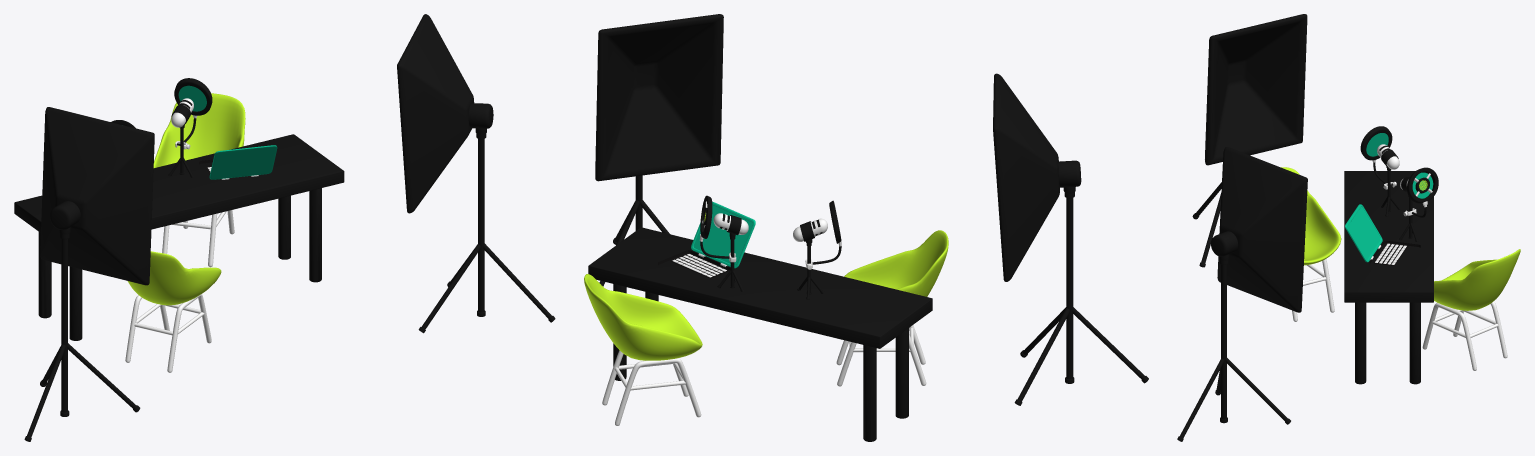
Rendered from studio-setup-3d-animated-icon-517992393383.glb.
3 renders of one model, left to right at view 1: azimuth 30°, elevation 25°; view 2: azimuth 150°, elevation 25°; view 3: azimuth 270°, elevation 25°, orthographic. The views are drawn at different scales.
Parts seen in each view (by area): view 1: Cylinder.107, Cube.029, Cylinder.128, Plane.046, Plane.045, Plane.047, NurbsPath.106, Cylinder.118, Cylinder.108, NurbsPath.117, Cylinder.112, Cylinder.122 (+3 smaller); view 2: Cube.029, Cylinder.128, Cylinder.107, Plane.046, Plane.045, NurbsPath.117, Plane.047, Cylinder.108, NurbsPath.106, Cylinder.116, Plane.050, Cylinder.112; view 3: Cylinder.107, Cylinder.128, Cube.029, Plane.046, Plane.045, NurbsPath.117, Plane.047, Cylinder.118, Cylinder.084, NurbsPath.106, Cylinder.124, Cylinder.101 (+3 smaller).
Part boxes in pixels (bbox=[...]): Cylinder.107: bbox=[40, 107, 154, 285]; Cube.029: bbox=[14, 134, 344, 340]; Cylinder.128: bbox=[397, 14, 493, 213]; Plane.046: bbox=[153, 93, 245, 167]; Plane.045: bbox=[127, 251, 221, 305]; Plane.047: bbox=[209, 145, 277, 179]; NurbsPath.106: bbox=[125, 294, 211, 372]; Cylinder.118: bbox=[475, 128, 486, 316]; Cylinder.108: bbox=[59, 227, 70, 416]; NurbsPath.117: bbox=[162, 210, 234, 267]; Cylinder.112: bbox=[24, 344, 65, 441]; Cylinder.122: bbox=[418, 244, 480, 333]; Cube.029: bbox=[588, 227, 932, 441]; Cylinder.128: bbox=[595, 14, 723, 181]; Cylinder.107: bbox=[993, 73, 1081, 281]; Plane.046: bbox=[584, 274, 702, 360]; Plane.045: bbox=[844, 230, 948, 296]; NurbsPath.117: bbox=[602, 350, 701, 425]; Plane.047: bbox=[691, 202, 755, 268]; Cylinder.108: bbox=[1063, 187, 1075, 383]; NurbsPath.106: bbox=[836, 325, 926, 386]; Cylinder.116: bbox=[1014, 308, 1069, 405]; Plane.050: bbox=[672, 254, 726, 277]; Cylinder.112: bbox=[1072, 307, 1148, 383]; Cylinder.107: bbox=[1205, 14, 1307, 165]; Cylinder.128: bbox=[1211, 147, 1307, 312]; Cube.029: bbox=[1344, 171, 1433, 384]; Plane.046: bbox=[1434, 249, 1520, 310]; Plane.045: bbox=[1281, 167, 1341, 265]; NurbsPath.117: bbox=[1422, 301, 1507, 370]; Plane.047: bbox=[1345, 204, 1382, 262]; Cylinder.118: bbox=[1219, 254, 1228, 423]; Cylinder.084: bbox=[1407, 167, 1438, 203]; NurbsPath.106: bbox=[1292, 259, 1334, 321]; Cylinder.124: bbox=[1177, 358, 1224, 441]; Cylinder.101: bbox=[1360, 126, 1392, 160].
Bounding box in the file's own units: 5.85 × 2.9 × 3.76.
